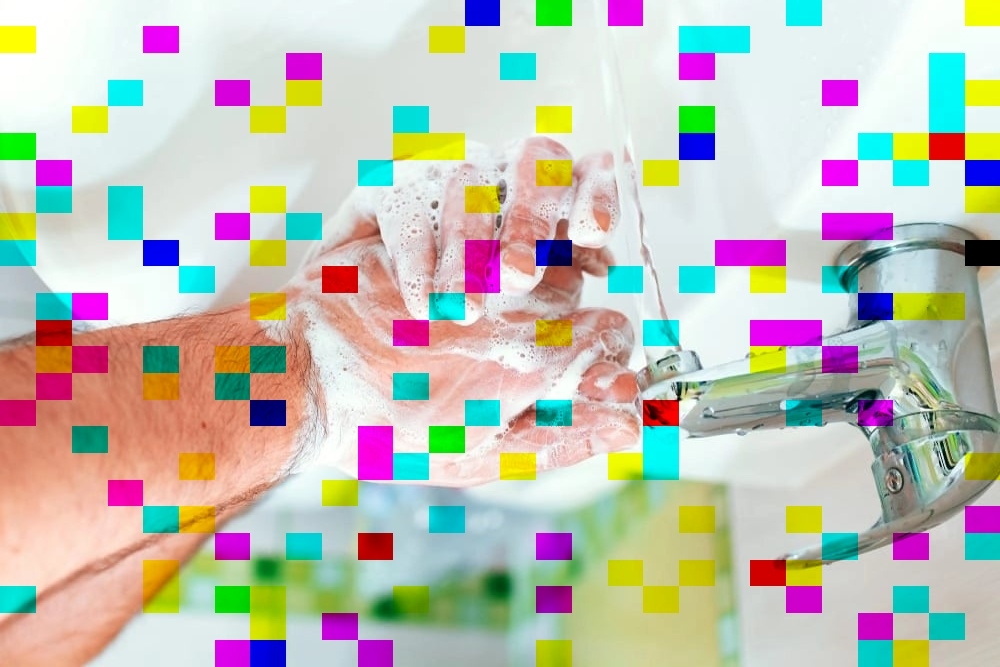washing hand: (305, 57, 965, 586)
